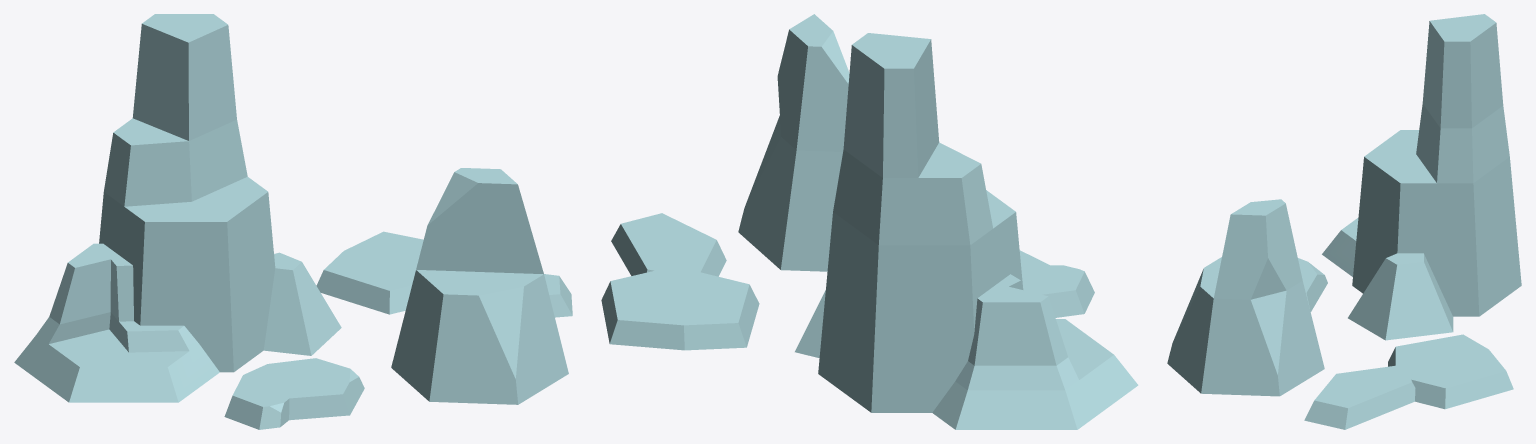
File: Quarry_1.fbx
3 views of the same model, side by side, from view 1: azimuth 30°, elevation 25°; view 2: azimuth 150°, elevation 25°; view 3: azimuth 270°, elevation 25° (orthographic). The views are drawn at different scales.
Visible parts, largest first — view 1: stone_tallA, stone_tallJ, stone_smallFlatC, stone_smallFlatA, stone_smallFlatB; view 2: stone_tallA, stone_tallJ, stone_smallFlatA, stone_smallFlatB, stone_smallFlatC; view 3: stone_tallA, stone_tallJ, stone_smallFlatA, stone_smallFlatB, stone_smallFlatC.
Boxes of the visible parts, left/top/right/bottom form: stone_tallA: left=14, top=14, right=341, bottom=402; stone_tallJ: left=391, top=168, right=568, bottom=404; stone_smallFlatC: left=224, top=358, right=364, bottom=429; stone_smallFlatA: left=316, top=231, right=423, bottom=314; stone_smallFlatB: left=544, top=274, right=572, bottom=317; stone_tallA: left=795, top=33, right=1138, bottom=429; stone_tallJ: left=738, top=14, right=849, bottom=271; stone_smallFlatA: left=601, top=266, right=759, bottom=350; stone_smallFlatB: left=611, top=213, right=726, bottom=276; stone_smallFlatC: left=1019, top=250, right=1094, bottom=317; stone_tallA: left=1322, top=14, right=1521, bottom=340; stone_tallJ: left=1167, top=199, right=1324, bottom=396; stone_smallFlatA: left=1388, top=334, right=1513, bottom=409; stone_smallFlatB: left=1304, top=364, right=1415, bottom=429; stone_smallFlatC: left=1298, top=258, right=1327, bottom=311.
Size of the model in its own units: 17.06 by 9.96 by 12.11.
